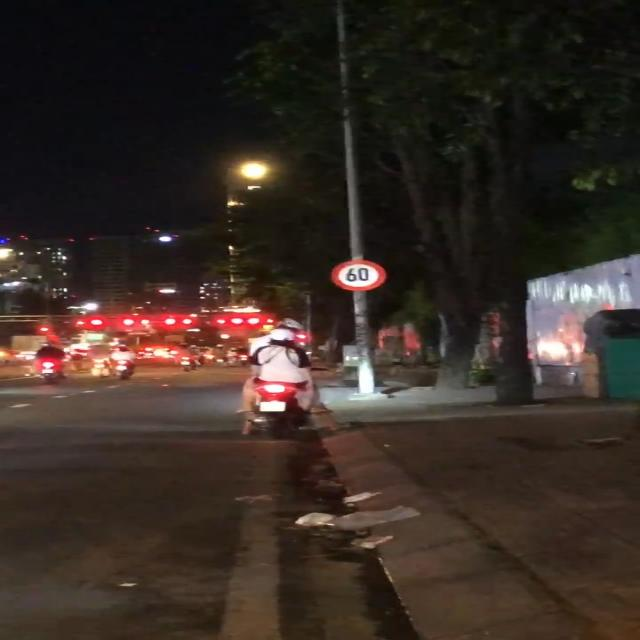Bien bao toc do toi da cho phep: (326, 256, 396, 293)
